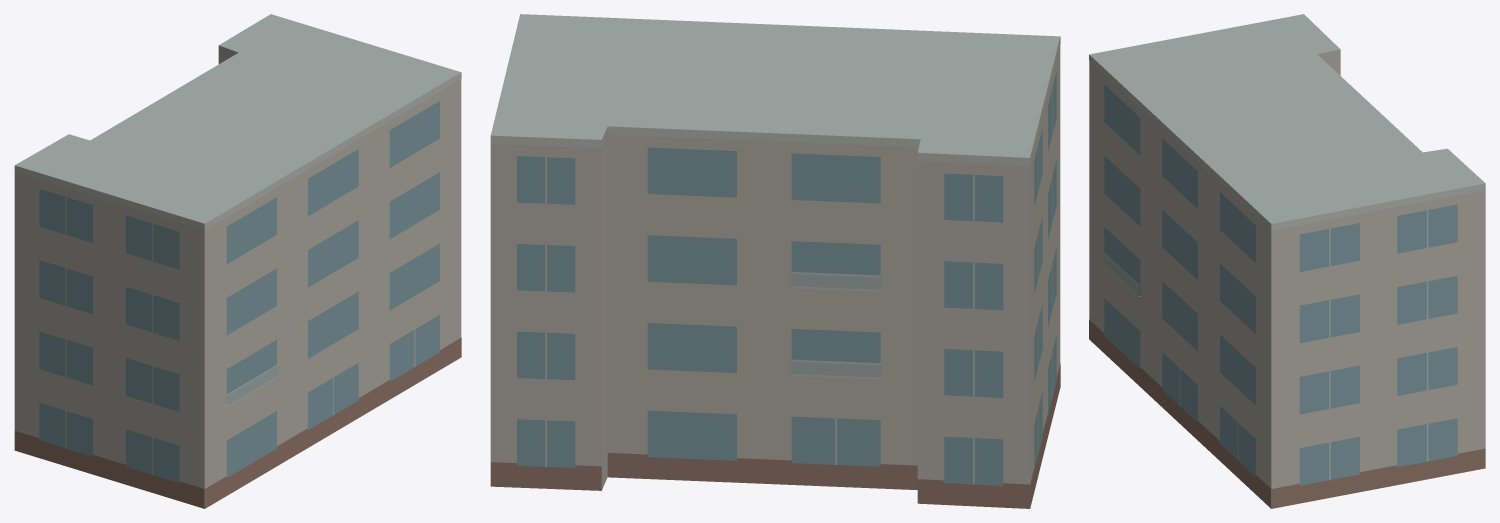
Rendered from survey-upis-32598917.glb.
3 renders of one model, left to right at view 1: azimuth 30°, elevation 25°; view 2: azimuth 150°, elevation 25°; view 3: azimuth 270°, elevation 25°, orthographic. The views are drawn at different scales.
Visible parts, largest first — view 1: survey-upis-32598917.tmp; view 2: survey-upis-32598917.tmp; view 3: survey-upis-32598917.tmp.
Part boxes in pixels (left/top/right/bottom): survey-upis-32598917.tmp: left=14, top=14, right=461, bottom=508; survey-upis-32598917.tmp: left=490, top=14, right=1060, bottom=508; survey-upis-32598917.tmp: left=1089, top=14, right=1485, bottom=508.
Size of the model in its own units: 16.76 by 10.6 by 13.38.
